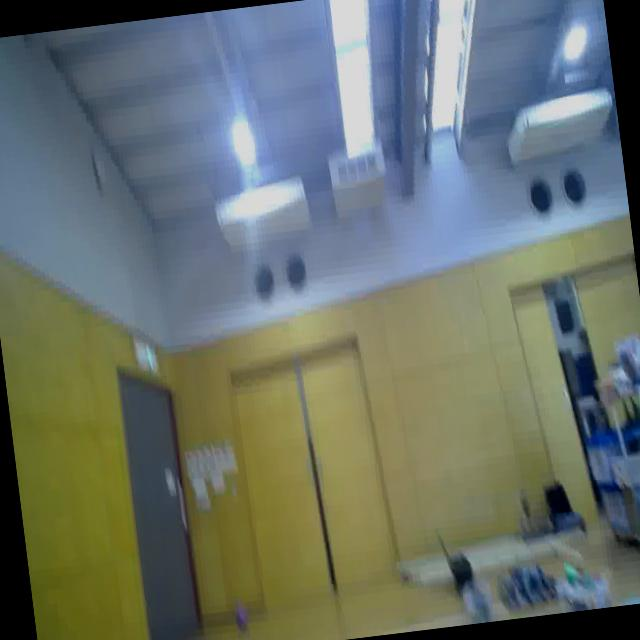purple_ball: (231, 604, 250, 634)
